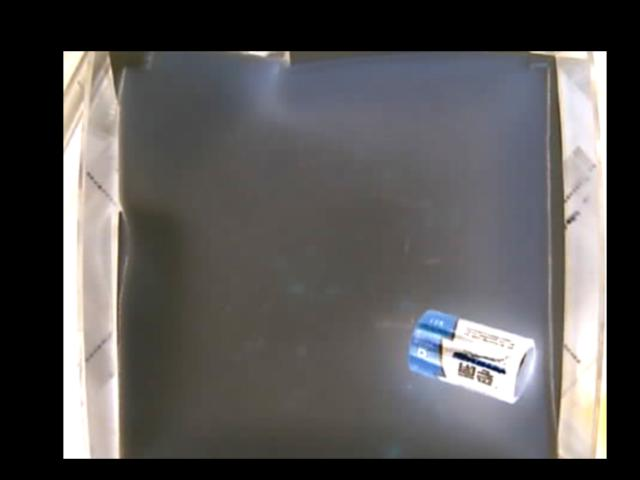Battery: (408, 307, 537, 400)
